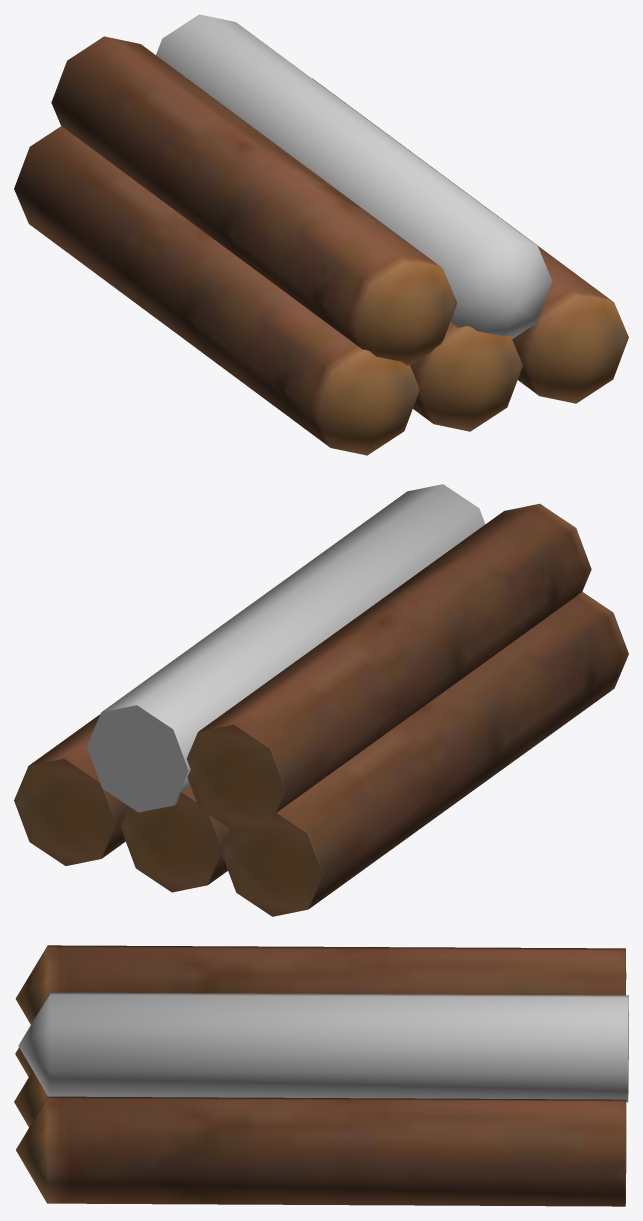
The model's file is mucai.FBX.
The picture shows the model from 3 angles, top to bottom: view 1: azimuth 30°, elevation 25°; view 2: azimuth 150°, elevation 25°; view 3: azimuth 270°, elevation 25°; orthographic projection. The views are drawn at different scales.
Visible parts, largest first — view 1: mucai11; view 2: mucai11; view 3: mucai11.
Part boxes in pixels (<box>): mucai11: <box>14,14,628,455</box>; mucai11: <box>14,484,628,916</box>; mucai11: <box>14,945,628,1206</box>.
Size of the model in its own units: 1.42 by 0.8018 by 2.53.
